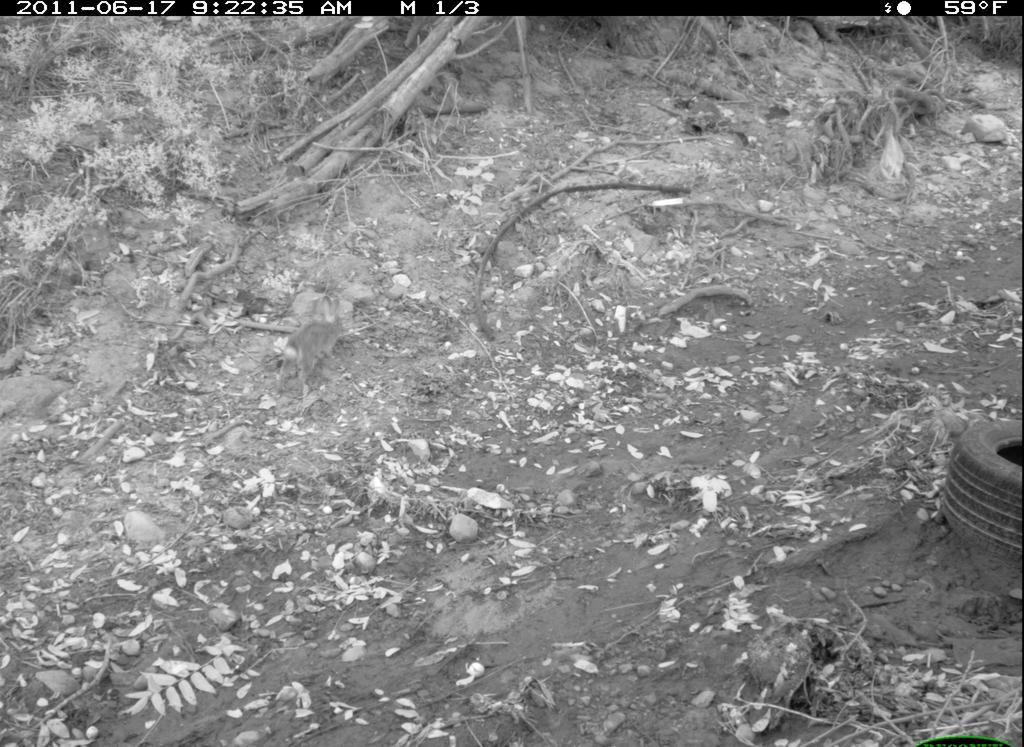rabbit: (267, 273, 370, 399)
